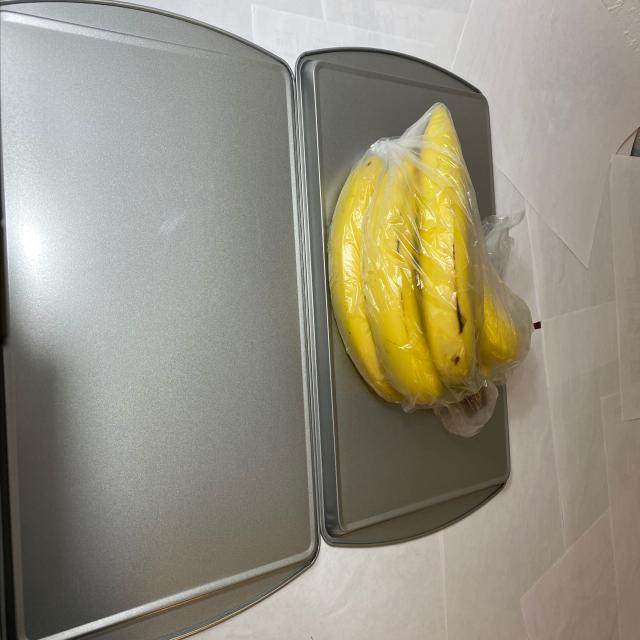banana: (326, 97, 548, 416)
